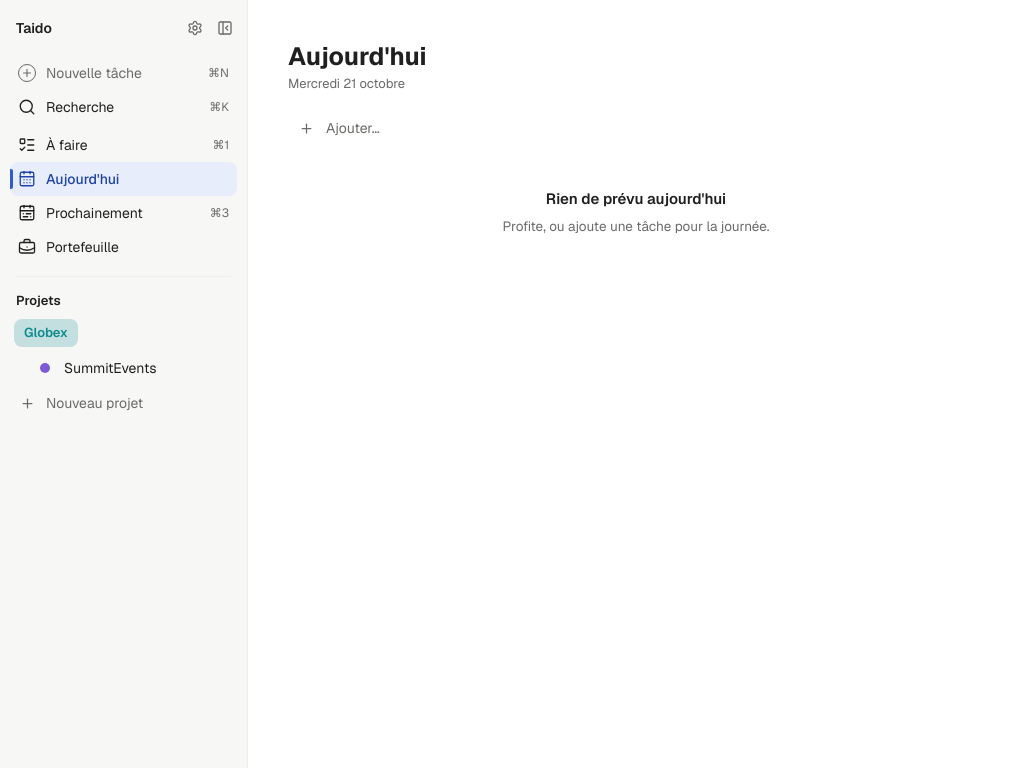
Test: groups in the sidebar › shows a group as a label that folds its projects, and never opens it
expect the button "SummitEvents" is shown: met, box [28,351,237,385]
Click the button with aria-label "Replier le groupe « Globex »": (46, 333) [14,319,78,347]
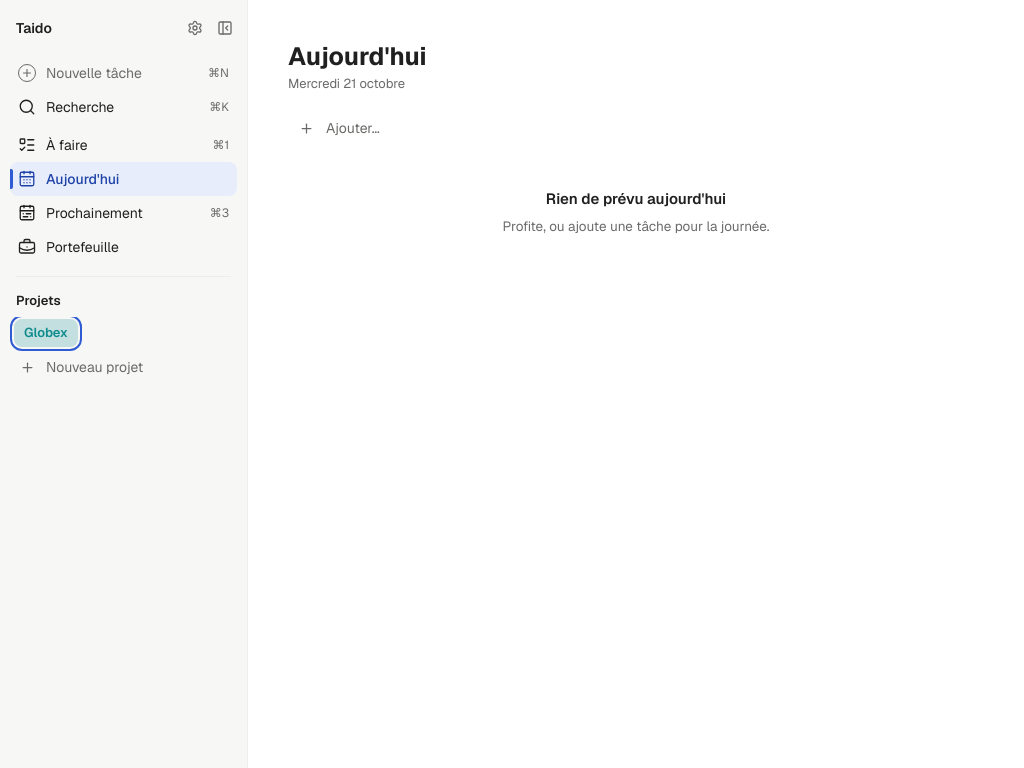
expect the button "SummitEvents" is gone: met
